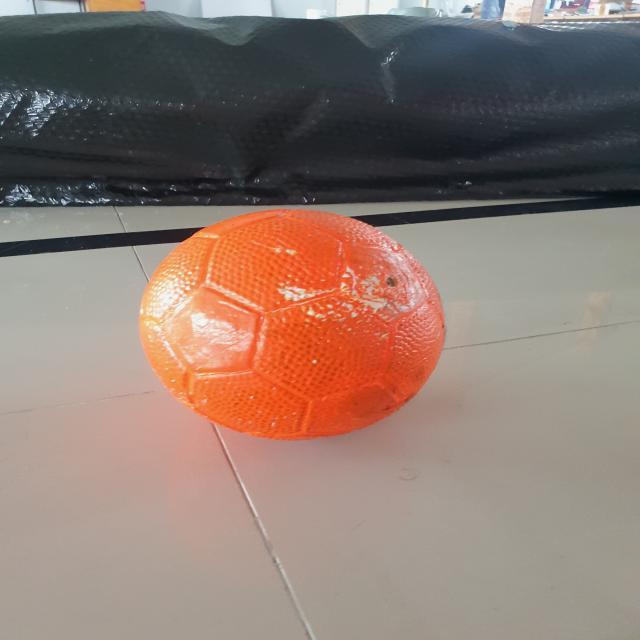bola: (140, 202, 454, 449)
